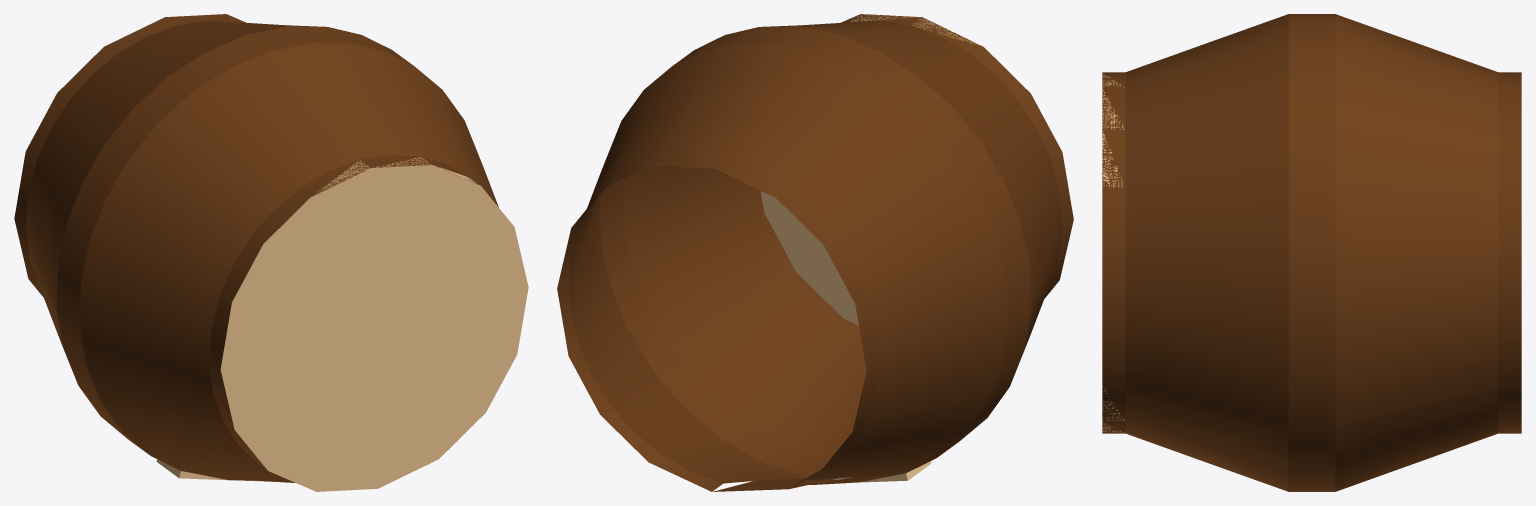
3 views of the same model, side by side, from view 1: azimuth 30°, elevation 25°; view 2: azimuth 150°, elevation 25°; view 3: azimuth 270°, elevation 25° (orthographic).
Visible parts, largest first — view 1: 物件_3, 物件_4; view 2: 物件_3, 物件_4; view 3: 物件_3, 物件_4.
Boxes of the visible parts, x1,y1,x2,y2 form: 物件_3: (14, 14, 498, 482); 物件_4: (220, 157, 528, 491); 物件_3: (557, 14, 1073, 491); 物件_4: (760, 14, 980, 325); 物件_3: (1102, 14, 1521, 491); 物件_4: (1102, 73, 1124, 433).
Bounding box in the file's own units: 0.8074 × 0.8213 × 0.7087.
